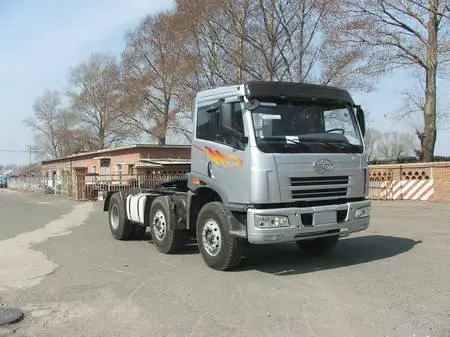bigtruck: (86, 64, 379, 289)
